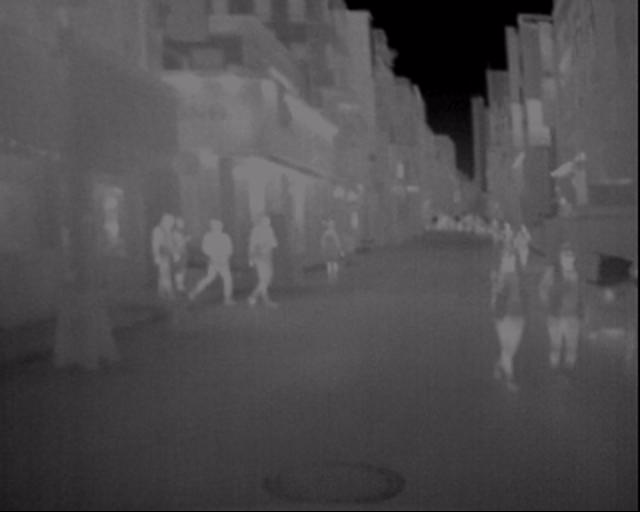person: (547, 226, 606, 405), (488, 226, 545, 402), (244, 197, 286, 306), (199, 202, 240, 313), (150, 201, 187, 306), (319, 206, 352, 292)
